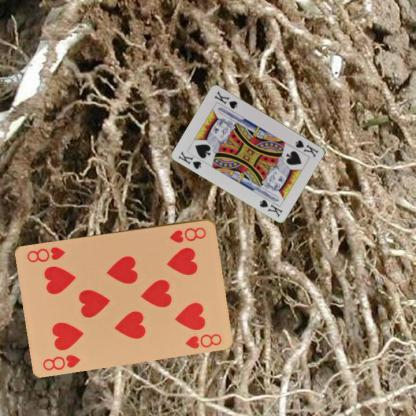8h: (40, 352, 81, 372), (167, 224, 207, 244)
Ks: (176, 148, 202, 171), (293, 137, 320, 159)
